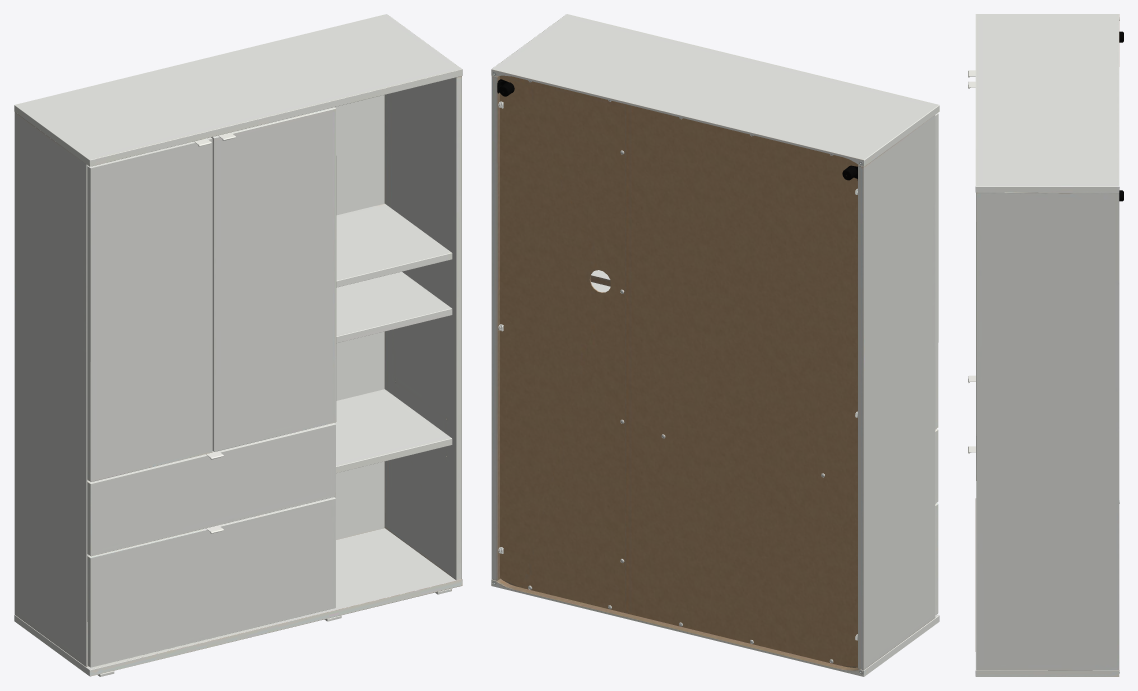
The model's file is vihals_szafka_90483268.glb.
3 renders of one model, left to right at view 1: azimuth 30°, elevation 25°; view 2: azimuth 150°, elevation 25°; view 3: azimuth 270°, elevation 25°, orthographic. The views are drawn at different scales.
Parts seen in each view (by area): view 1: vihals_szafka_90483268; view 2: vihals_szafka_90483268; view 3: vihals_szafka_90483268.
Part boxes in pixels (x1,y1,x2,y2): vihals_szafka_90483268: [14, 14, 462, 676]; vihals_szafka_90483268: [491, 14, 939, 676]; vihals_szafka_90483268: [968, 14, 1123, 676].
Bounding box in the file's own units: 1.05 × 1.4 × 0.4009.
Materials: 1 (1 with a texture image).
